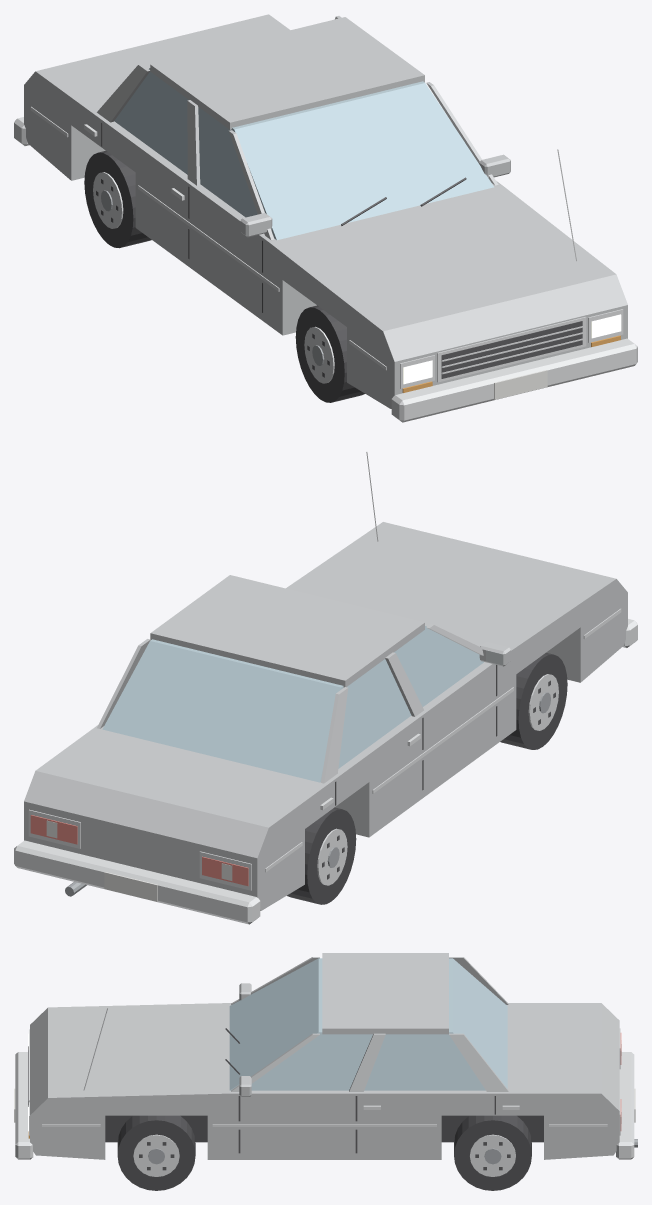
File: car_sedan_s.glb
3 views of the same model, one above another, from view 1: azimuth 30°, elevation 25°; view 2: azimuth 150°, elevation 25°; view 3: azimuth 270°, elevation 25° (orthographic). The views are drawn at different scales.
Parts seen in each view (by area): view 1: car_sedan_s_car_s, car_sedan_s_glass, car_sedan_s_chrome, car_sedan_s_rubber, car_sedan_s_dark, car_sedan_s_lamp_glass, car_sedan_s_paint_w; view 2: car_sedan_s_car_s, car_sedan_s_glass, car_sedan_s_chrome, car_sedan_s_rubber, car_sedan_s_neon_r, car_sedan_s_paint_w; view 3: car_sedan_s_car_s, car_sedan_s_glass, car_sedan_s_rubber, car_sedan_s_chrome, car_sedan_s_dark, car_sedan_s_steel.
Part boxes in pixels (x1=…): car_sedan_s_car_s: x1=24, y1=14, x2=627, y2=408; car_sedan_s_glass: x1=114, y1=68, x2=493, y2=240; car_sedan_s_chrome: x1=14, y1=106, x2=637, y2=422; car_sedan_s_rubber: x1=84, y1=150, x2=364, y2=402; car_sedan_s_dark: x1=96, y1=122, x2=582, y2=378; car_sedan_s_lamp_glass: x1=403, y1=314, x2=621, y2=384; car_sedan_s_paint_w: x1=494, y1=370, x2=547, y2=399; car_sedan_s_car_s: x1=24, y1=522, x2=627, y2=910; car_sedan_s_glass: x1=102, y1=626, x2=483, y2=782; car_sedan_s_chrome: x1=14, y1=451, x2=637, y2=924; car_sedan_s_rubber: x1=287, y1=652, x2=567, y2=904; car_sedan_s_neon_r: x1=30, y1=815, x2=248, y2=886; car_sedan_s_paint_w: x1=46, y1=820, x2=232, y2=901; car_sedan_s_car_s: x1=30, y1=953, x2=619, y2=1159; car_sedan_s_glass: x1=229, y1=958, x2=507, y2=1090; car_sedan_s_rubber: x1=105, y1=1115, x2=543, y2=1190; car_sedan_s_chrome: x1=15, y1=1008, x2=634, y2=1176; car_sedan_s_dark: x1=28, y1=1028, x2=510, y2=1170; car_sedan_s_steel: x1=148, y1=1139, x2=637, y2=1164.
Bounding box in the file's own units: 2 × 1.6 × 5.12.
